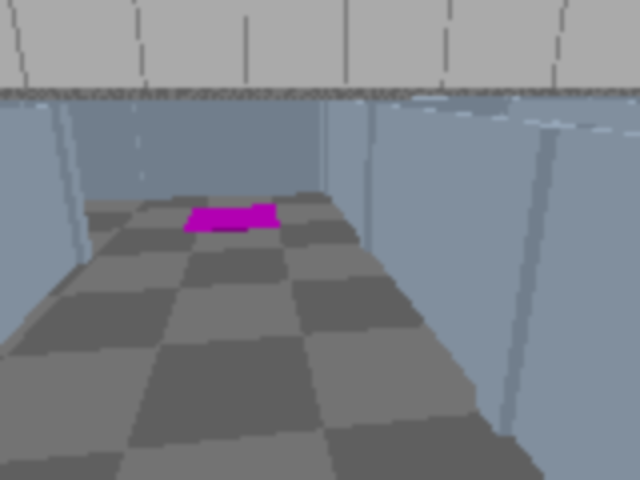goal_zone: (184, 205, 280, 233)
